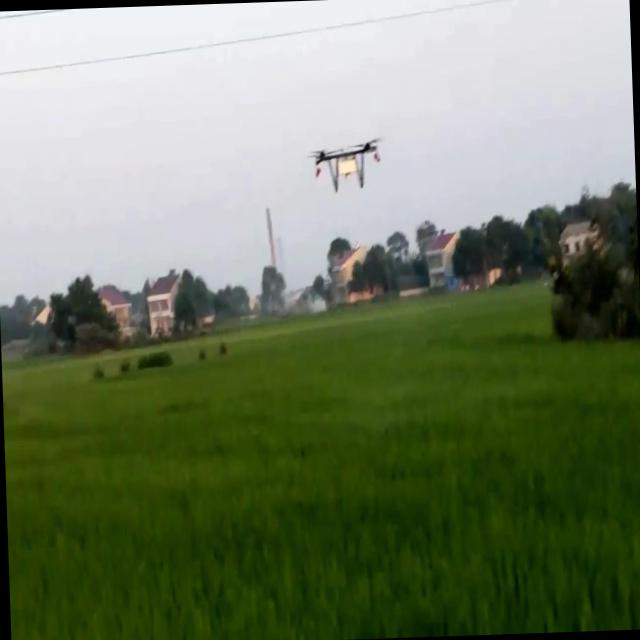drone: (305, 131, 385, 195)
